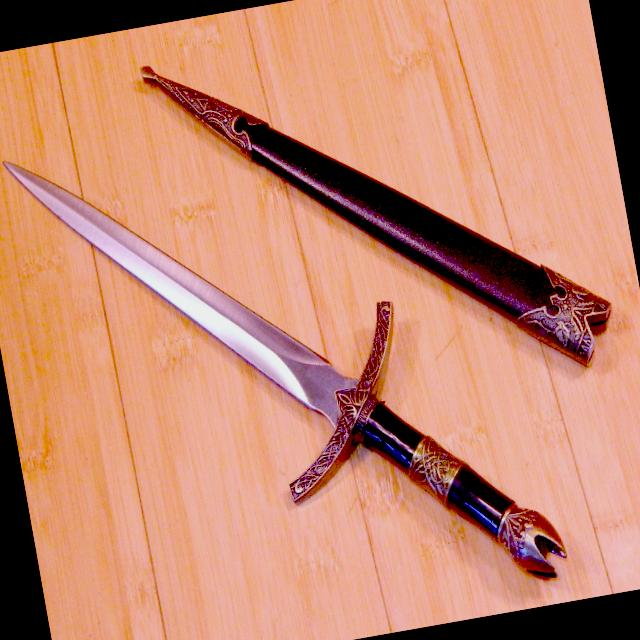short sword: (0, 66, 587, 640)
